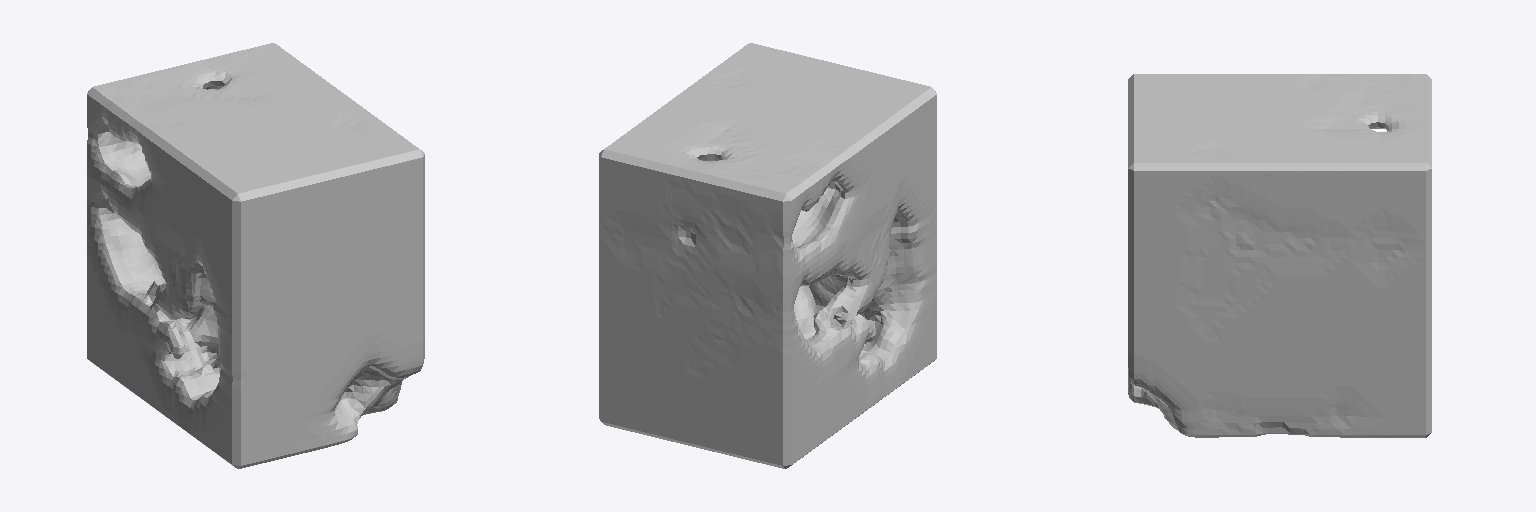
3 views of the same model, side by side, from view 1: azimuth 30°, elevation 25°; view 2: azimuth 150°, elevation 25°; view 3: azimuth 270°, elevation 25° (orthographic).
Parts seen in each view (by area): view 1: Liquid_Domain; view 2: Liquid_Domain; view 3: Liquid_Domain.
Boxes of the visible parts, box(x1,y1,x2,y2) form: Liquid_Domain: box(87, 43, 424, 468); Liquid_Domain: box(599, 43, 936, 468); Liquid_Domain: box(1128, 74, 1431, 437).
Size of the model in its own units: 79.09 by 108 by 108.